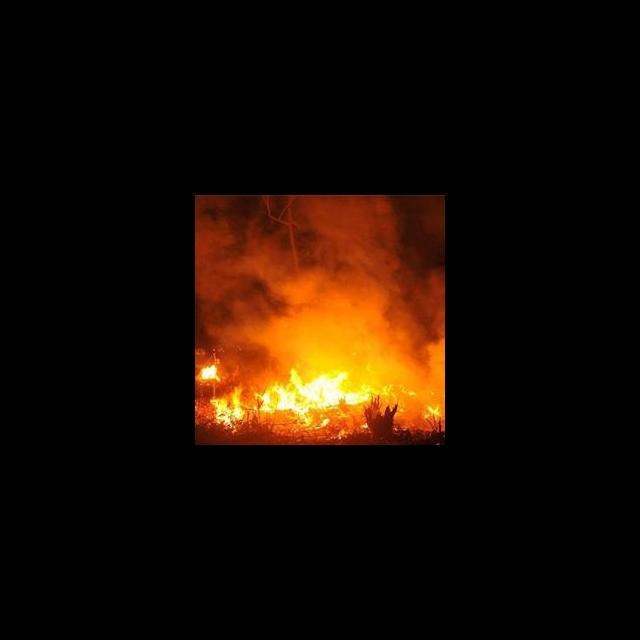Fire: (197, 353, 440, 428)
